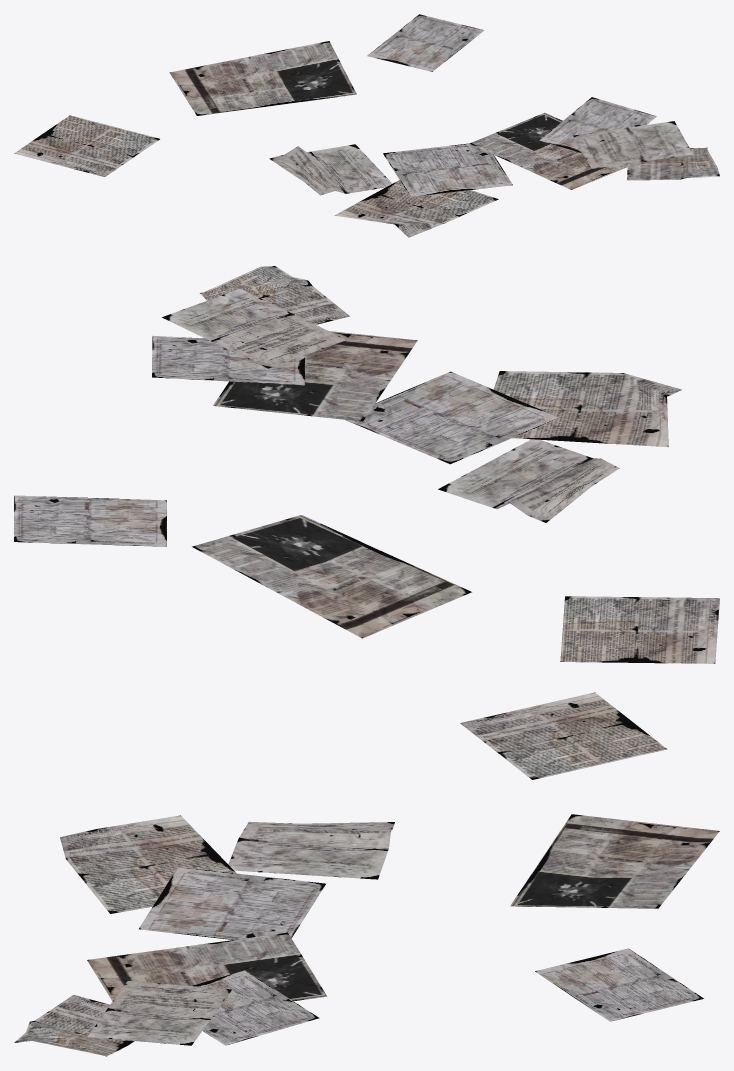
Rendered from com_debris_paper_lod0.glb.
3 renders of one model, top to bottom at view 1: azimuth 30°, elevation 25°; view 2: azimuth 150°, elevation 25°; view 3: azimuth 270°, elevation 25°, orthographic. The views are drawn at different scales.
Visible parts, largest first — view 1: surf0; view 2: surf0; view 3: surf0.
Boxes of the visible parts, bbox=[...] form: surf0: bbox=[14, 14, 719, 237]; surf0: bbox=[14, 266, 719, 663]; surf0: bbox=[14, 692, 719, 1056].
Size of the model in its own units: 58.52 by 1.63 by 47.5.
